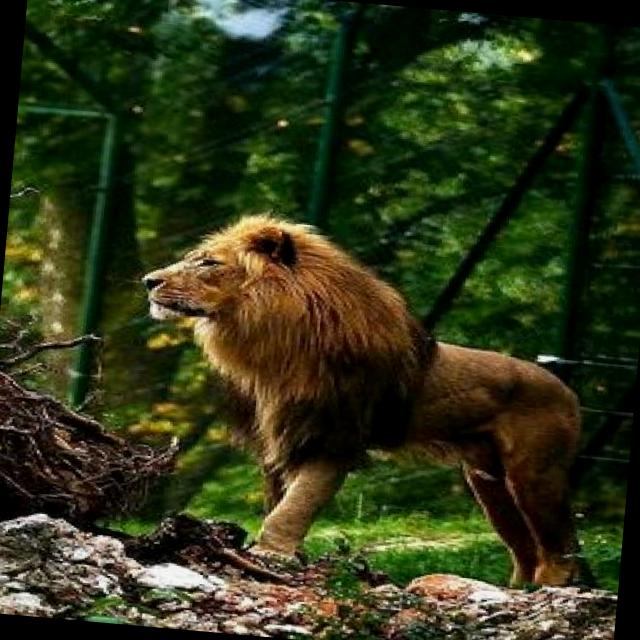lions: (1, 105, 640, 637)
